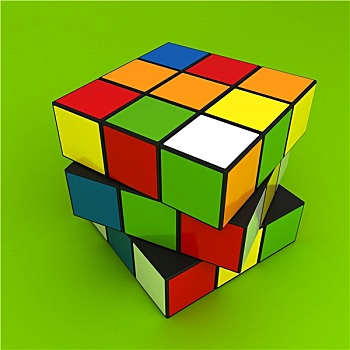cube: (53, 40, 318, 320)
